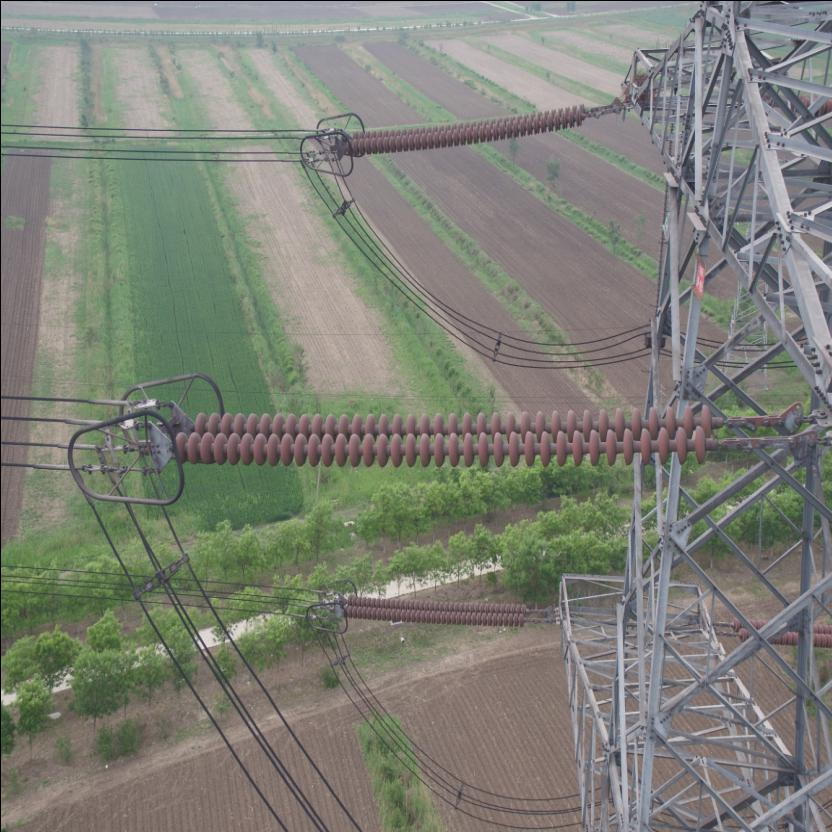insulator: (166, 400, 746, 470), (344, 95, 600, 158), (340, 590, 538, 626)
